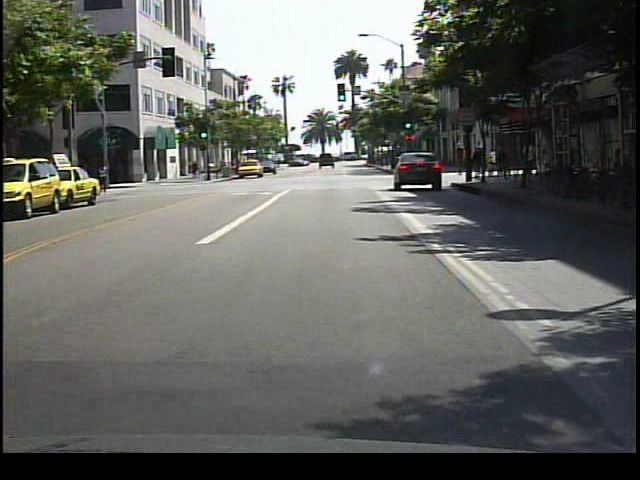person: (450, 139, 467, 181)
